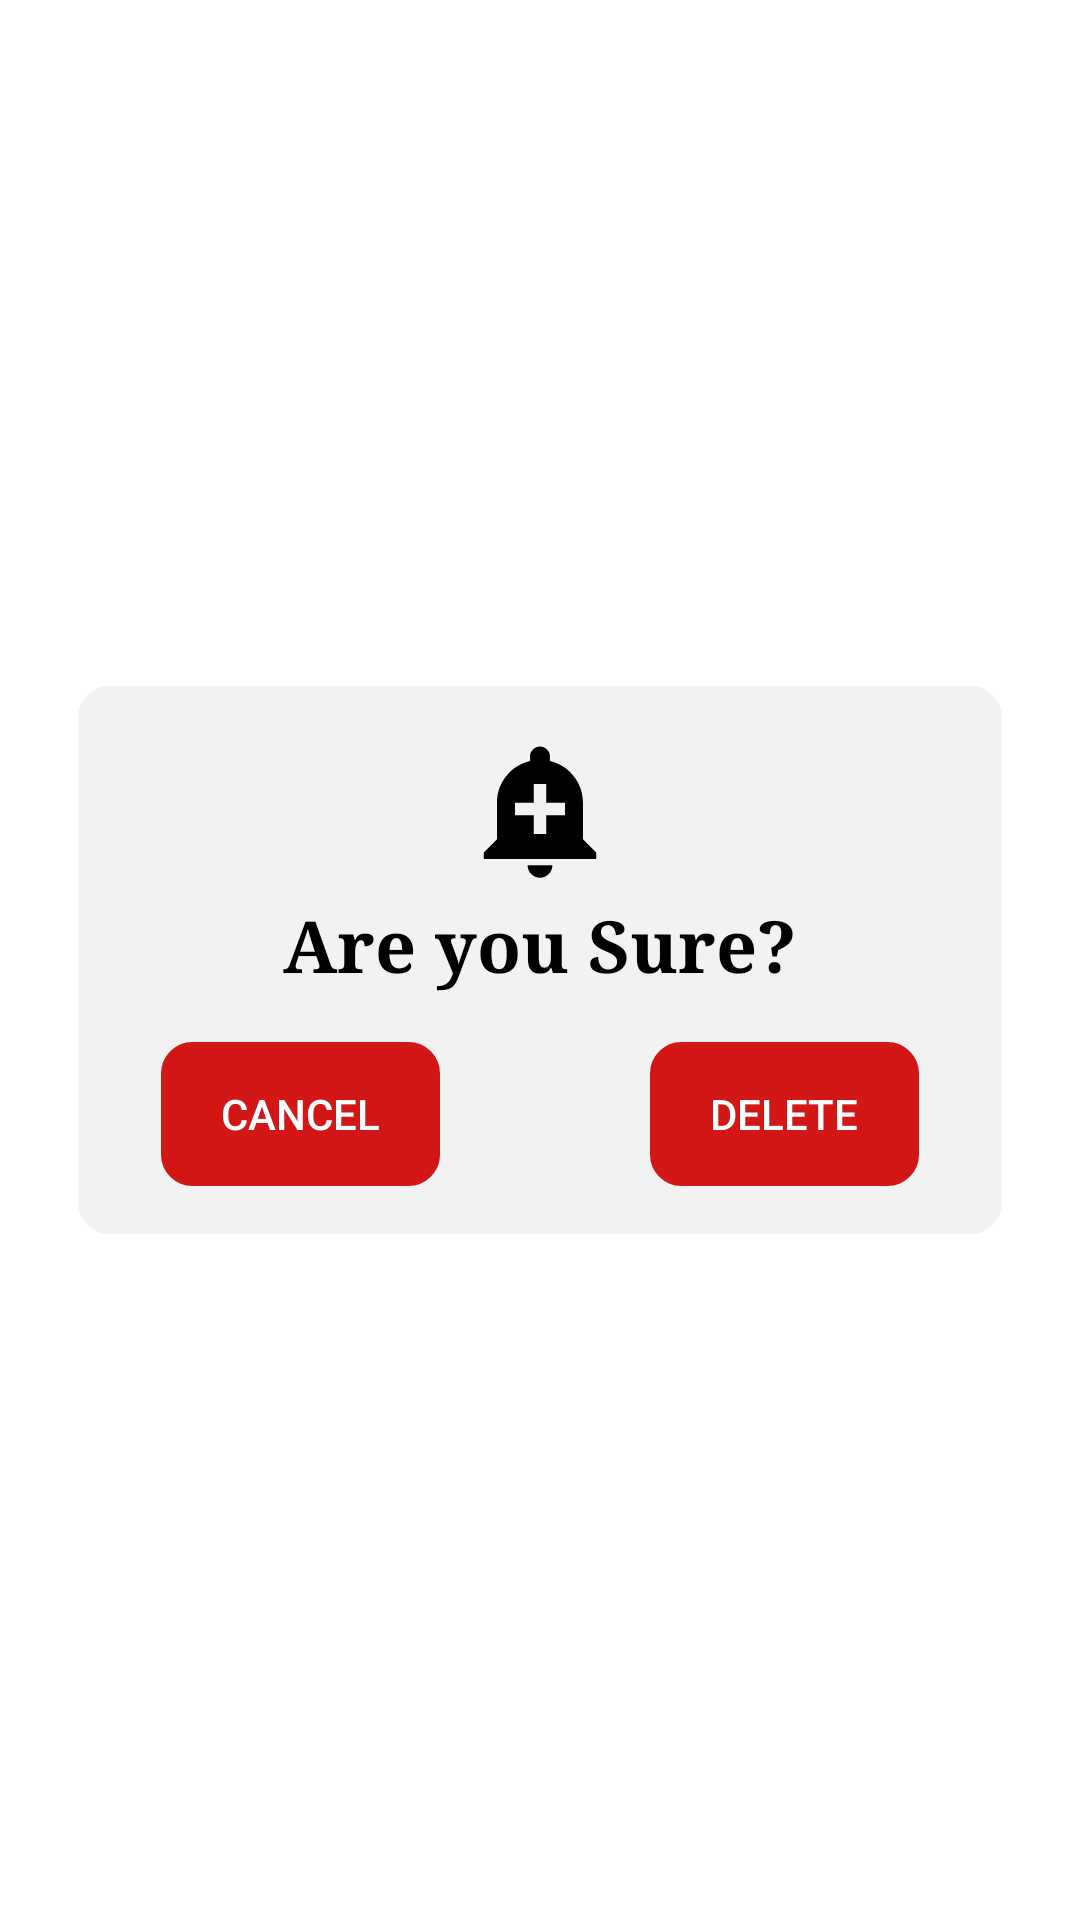

Screen size 1080 × 1920. Icon name, then its center in pixels as [x,y]:
alert: [540,812]
